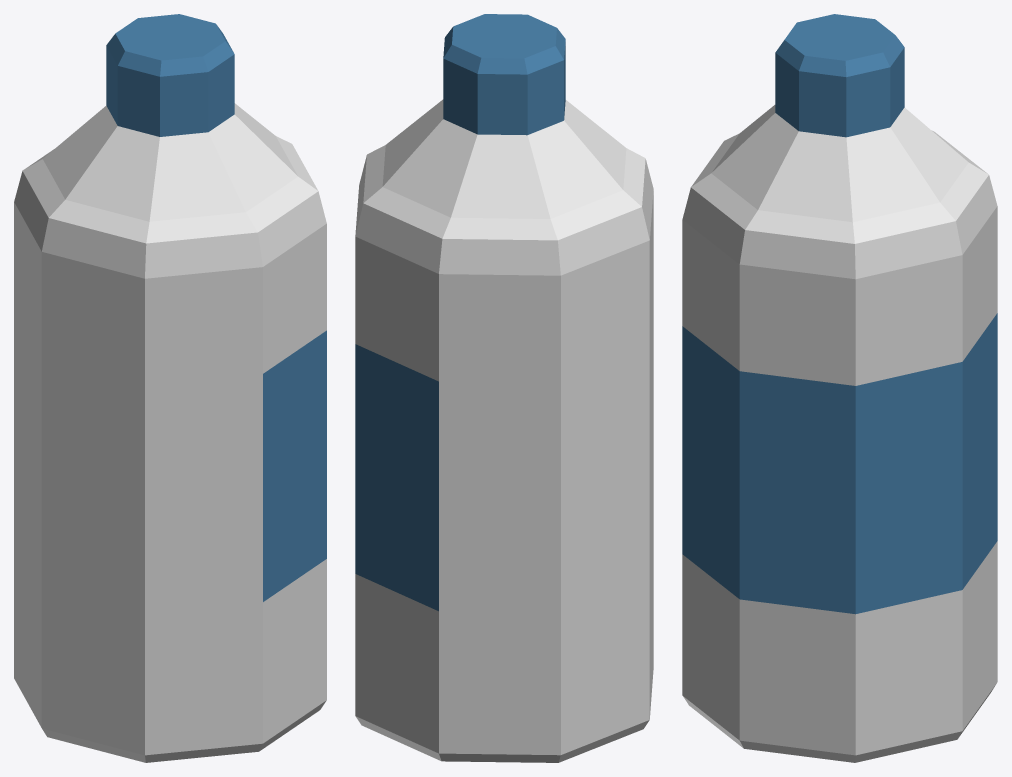
The model's file is Ma_Ethyl_Alcohol.fbx.
3 views of the same model, side by side, from view 1: azimuth 30°, elevation 25°; view 2: azimuth 150°, elevation 25°; view 3: azimuth 270°, elevation 25° (orthographic).
Parts seen in each view (by area): view 1: Ma_Ethyl_Alcohol; view 2: Ma_Ethyl_Alcohol; view 3: Ma_Ethyl_Alcohol.
Part boxes in pixels (bbox=[...]): Ma_Ethyl_Alcohol: bbox=[14, 14, 326, 762]; Ma_Ethyl_Alcohol: bbox=[355, 14, 653, 762]; Ma_Ethyl_Alcohol: bbox=[682, 14, 997, 762].
Size of the model in its own units: 63.94 by 63.94 by 148.
